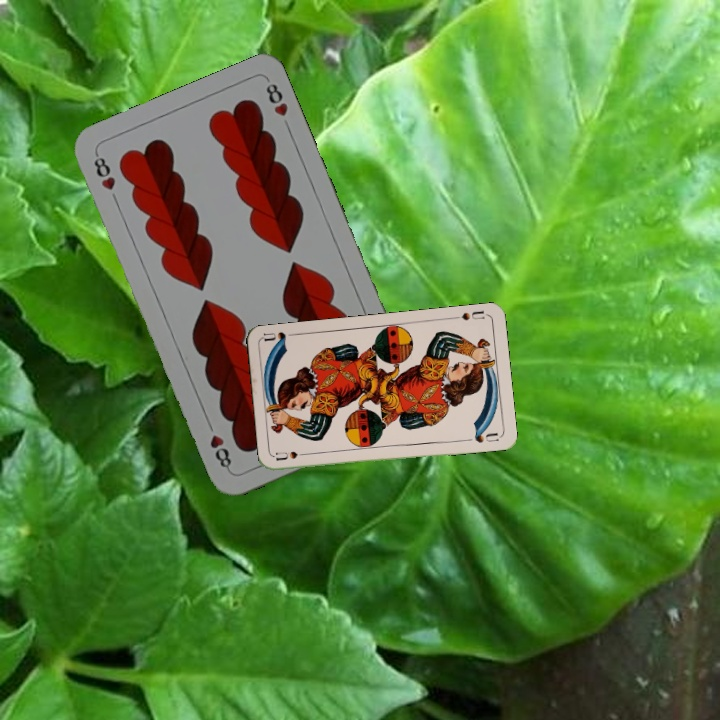H8: (89, 149, 118, 193)
SU: (272, 447, 313, 464), (448, 306, 489, 323)
